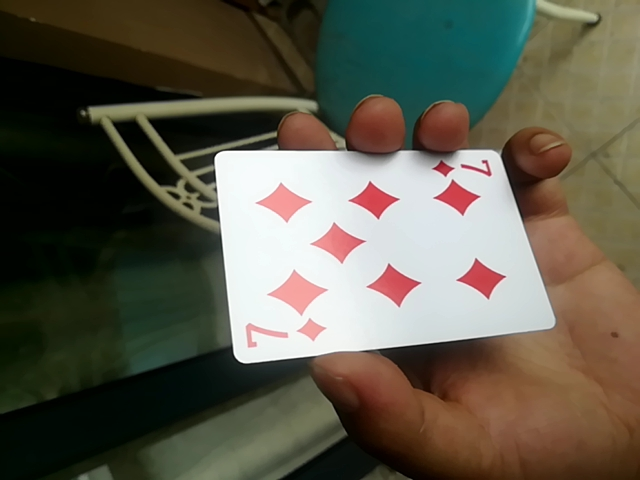fk 7: (210, 143, 550, 366)
